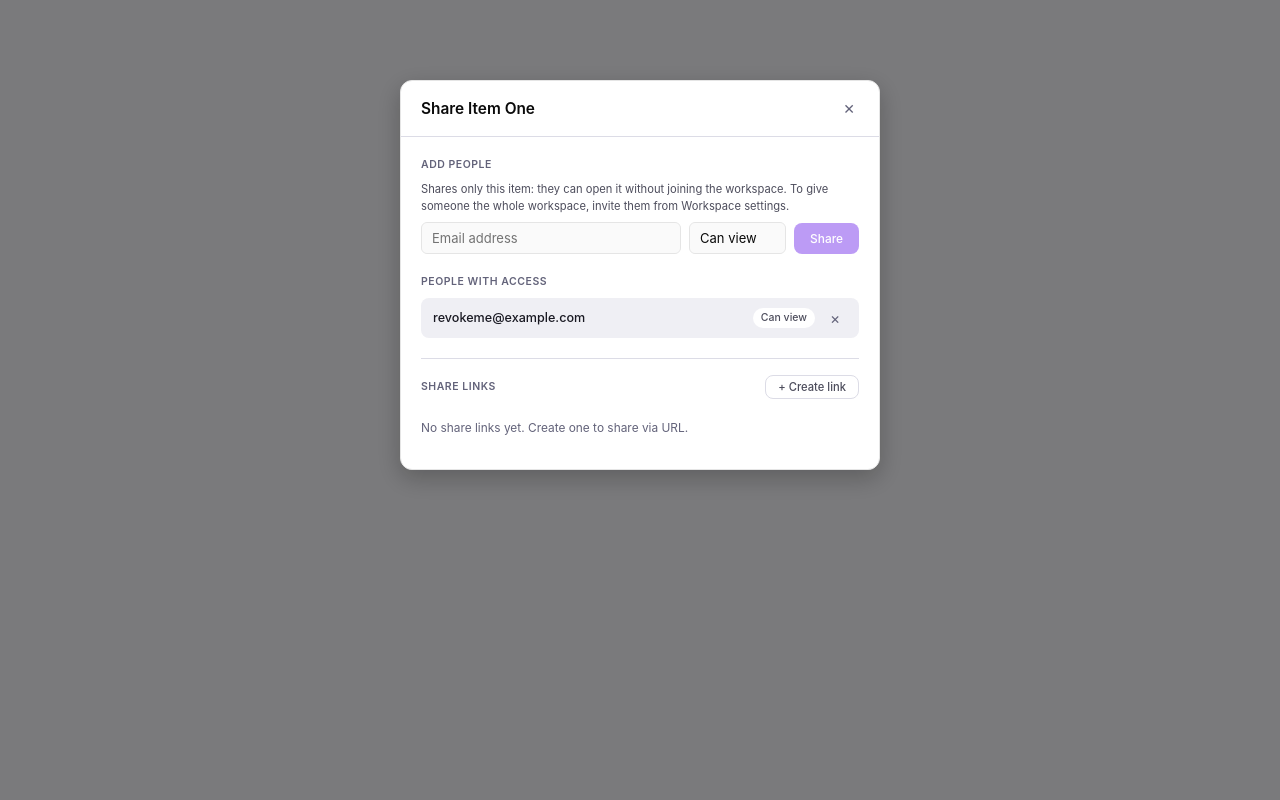
Test: ShareDialog identity fence (BUG-3105) › CONTROL for the destructive path: an unchanged identity commits the revoke
Click the button with class "revoke-btn": (835, 318) [823,306,847,330]
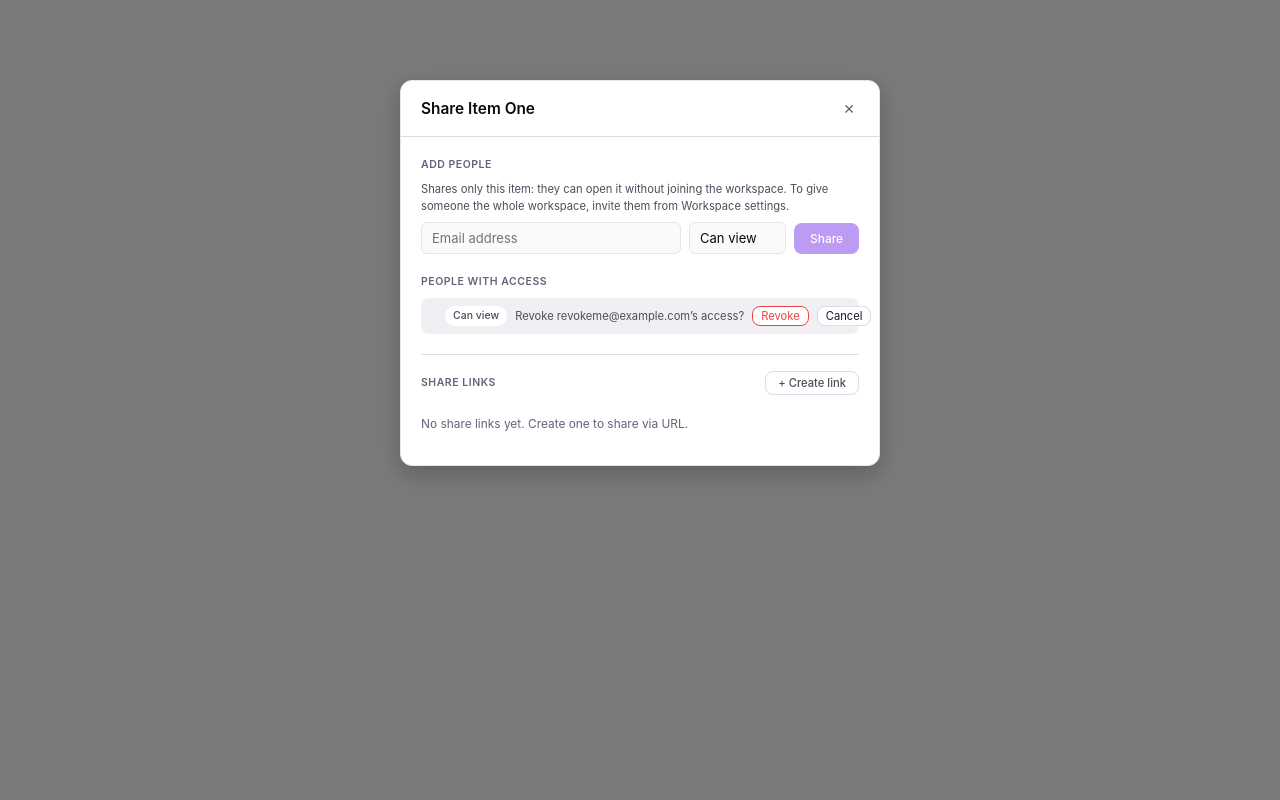
Click the button with class "revoke-confirm-yes": (780, 316) [752,306,809,326]
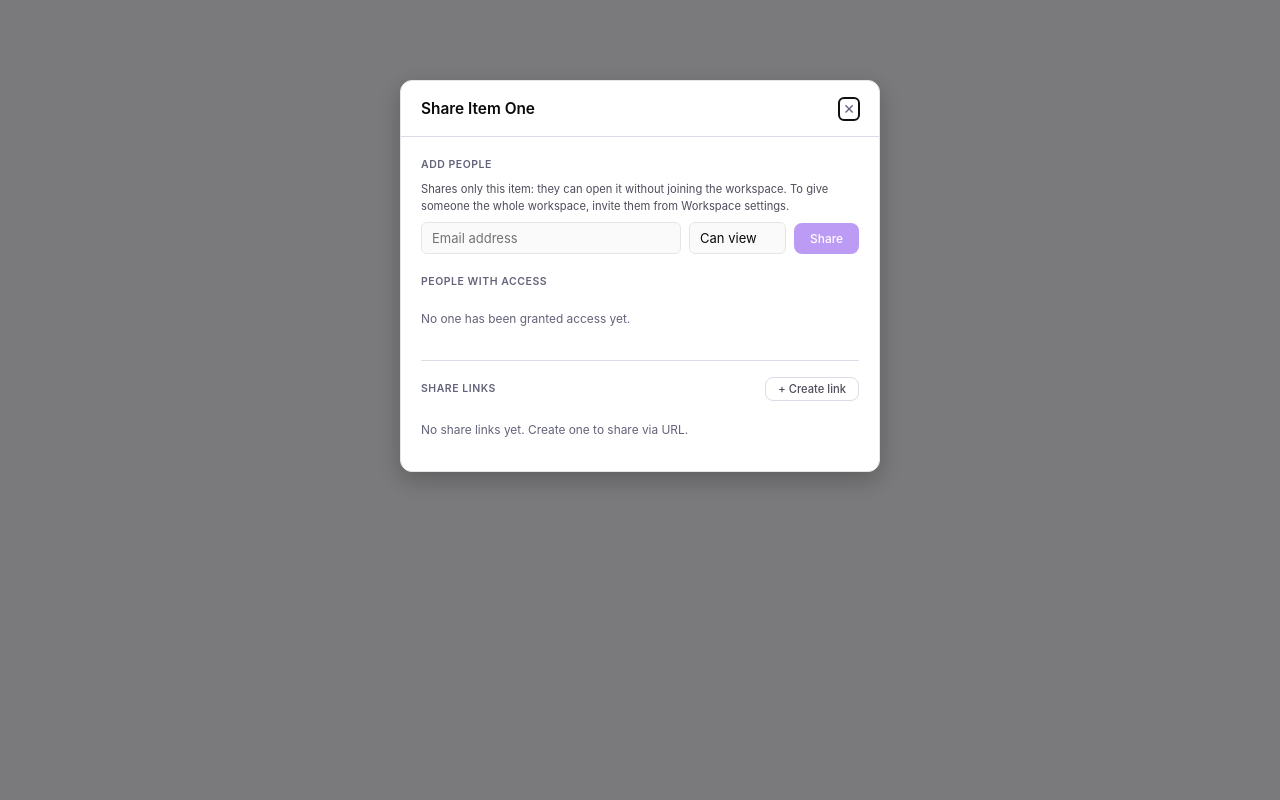
Check: the text "revokeme@example.com" is gone
